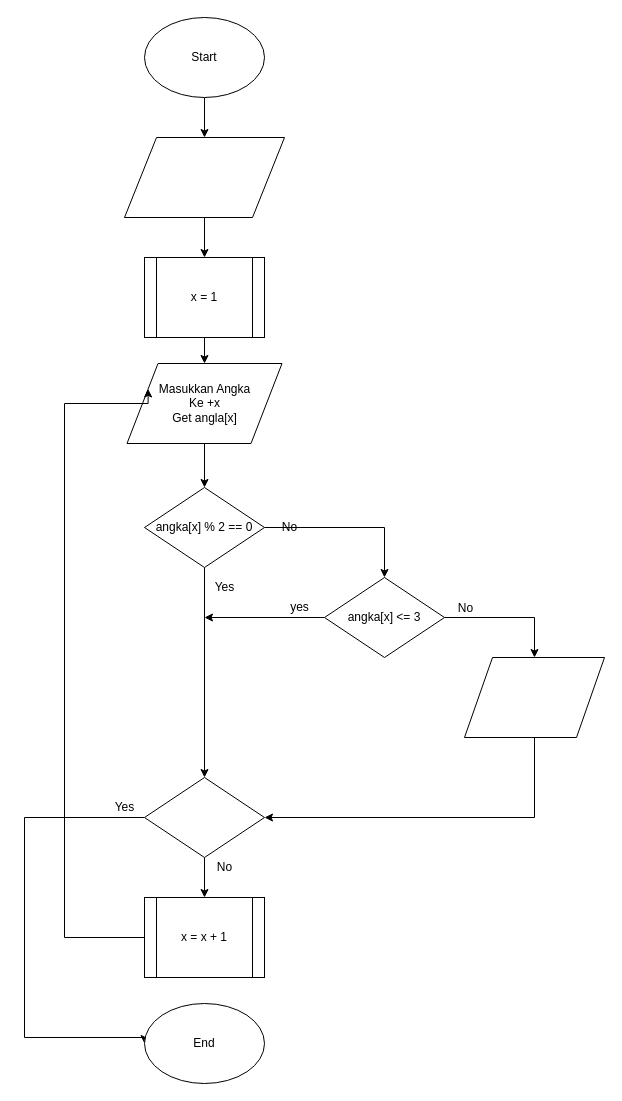
Image size: 622x1101. Some labels were removed from this diagram. The shapes that lost their labels are listed below. From the top down, each one's centre as x and y in pixels, then its label:
At point 204,177: "Masukkan Banyak Angka Get data".
At point 534,697: "Print angka[x]".
At point 204,817: "x >= data".
